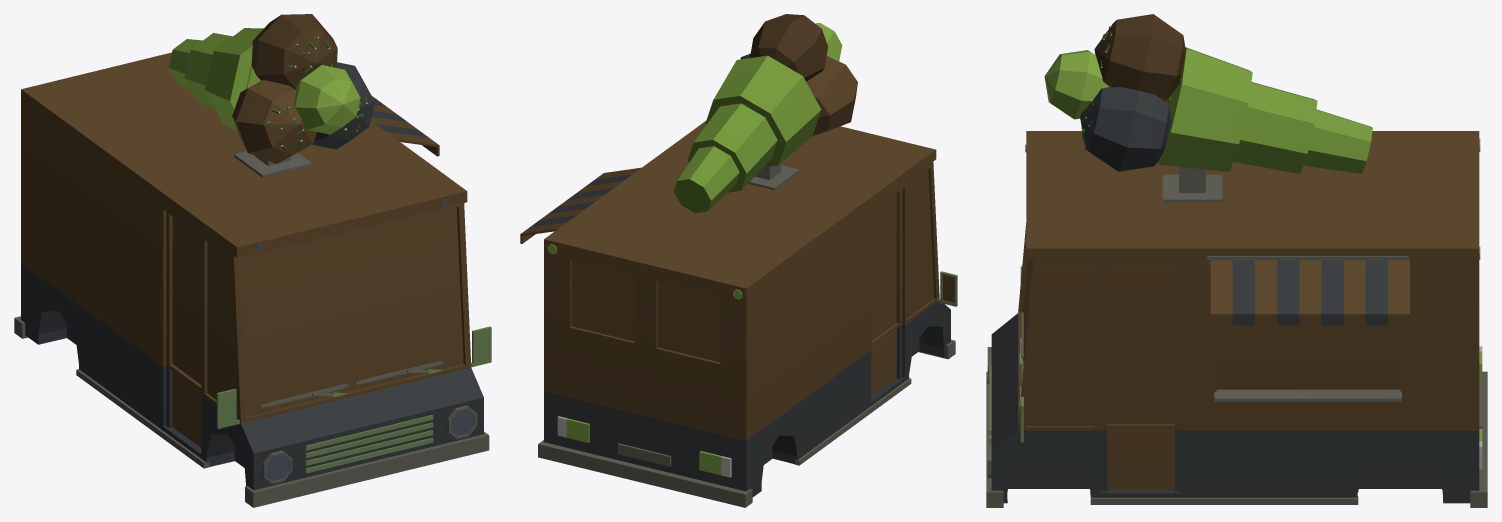
Rendered from Car_29.fbx.
3 renders of one model, left to right at view 1: azimuth 30°, elevation 25°; view 2: azimuth 150°, elevation 25°; view 3: azimuth 270°, elevation 25°, orthographic. The views are drawn at different scales.
Visible parts, largest first — view 1: Car_29; view 2: Car_29; view 3: Car_29.
Boxes of the visible parts, x1=… form: Car_29: x1=14, y1=14, x2=491, y2=507; Car_29: x1=520, y1=14, x2=957, y2=507; Car_29: x1=986, y1=14, x2=1487, y2=507.
Bounding box in the file's own units: 271 × 339 × 360.
